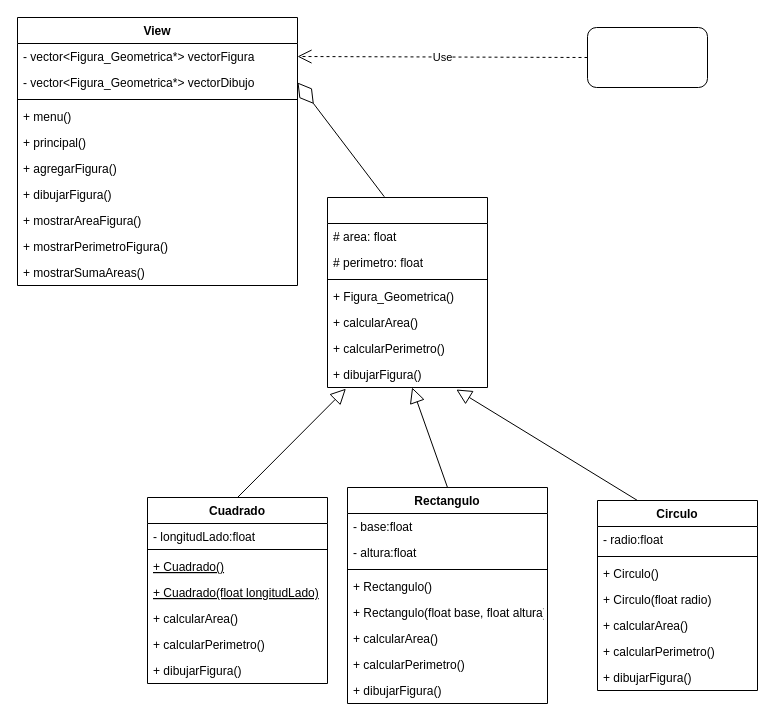
Some shapes in this 775 by 724 pixel diagram are drawn without their labels. The box of each missing label's shape, as (x1, y1, x2, y2) in pixels:
Figura Geométrica: (326, 196, 488, 388)
main: (586, 26, 708, 88)
